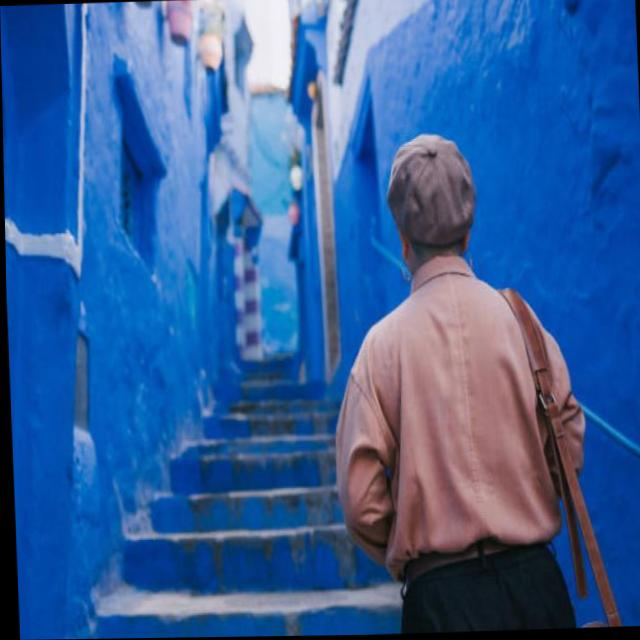no helmet: (370, 120, 489, 275)
